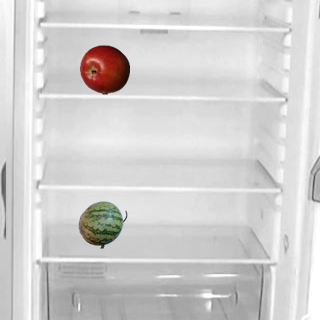Apple Braeburn: (79, 44, 129, 94)
Watermelon: (77, 199, 127, 249)
